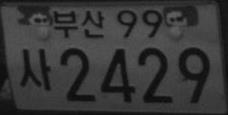2: (137, 46, 174, 104), (58, 46, 96, 102)
4: (99, 47, 136, 103)
9: (177, 45, 210, 104), (116, 8, 138, 38), (141, 8, 163, 37)
부산_H: (52, 9, 106, 39)
사: (18, 47, 53, 91)
